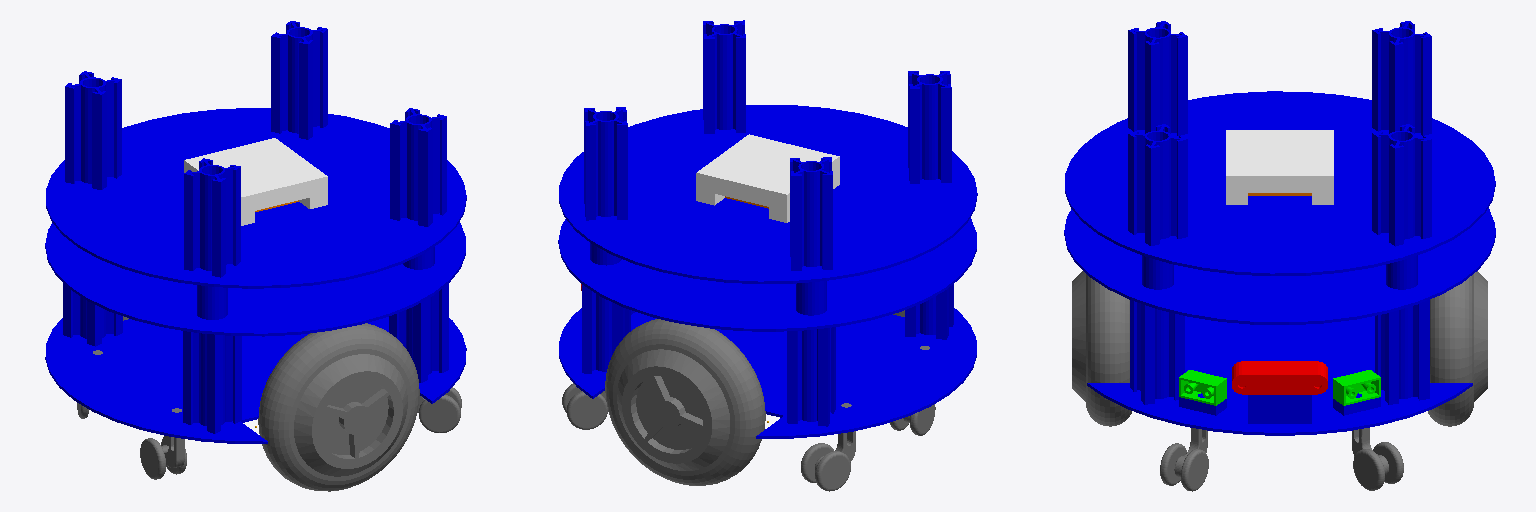
--- Facts derived from the render (not from the file) ---
3 views of the same robot in one strip: view 1: azimuth 30°, elevation 25°; view 2: azimuth 150°, elevation 25°; view 3: azimuth 270°, elevation 25° (orthographic).
Model jason_robot with 17 links and 16 joints (10 continuous, 6 fixed), rooted at base_footprint_link, posed every joint at zero.
Visible links, largest first — view 1: base_link, rightwheel_link, imu_link, caster1_link, caster4_link, casterhandle4_link; view 2: base_link, leftwheel_link, imu_link, caster3_link, caster2_link, caster4_link; view 3: base_link, imu_link, rightwheel_link, leftwheel_link, depth_camera_link, caster2_link, caster1_link, leftsonar_link, rightsonar_link, casterhandle1_link.
Link boxes in pixels (x1,y1,x2,y2): base_link: (45, 21, 466, 443); rightwheel_link: (258, 323, 419, 491); imu_link: (184, 138, 327, 225); caster1_link: (419, 387, 461, 432); caster4_link: (140, 436, 186, 479); casterhandle4_link: (161, 408, 184, 467); base_link: (558, 20, 977, 438); leftwheel_link: (605, 319, 765, 485); imu_link: (696, 134, 839, 222); caster3_link: (801, 443, 850, 491); caster2_link: (562, 383, 607, 429); caster4_link: (890, 404, 935, 435); base_link: (1064, 21, 1495, 435); imu_link: (1226, 130, 1333, 204); rightwheel_link: (1072, 271, 1131, 426); leftwheel_link: (1428, 271, 1487, 426); depth_camera_link: (1232, 361, 1327, 394); caster2_link: (1353, 442, 1403, 490); caster1_link: (1160, 443, 1208, 491); leftsonar_link: (1333, 370, 1380, 405); rightsonar_link: (1179, 370, 1226, 405); casterhandle1_link: (1174, 428, 1207, 476).
Size in the robot's own frame: 0.4 by 0.4 by 0.342 metres.
Meshes: 15 distinct files referenced, 16 mesh visuals loaded (15 binary STL).

robot.urdf — jason_robot:
<?xml version="1.0" encoding="utf-8"?>
<robot name="jason_robot">

  <!-- base_footprint:to aviod the robot model drop into groud -->
  <link name="base_footprint_link"> 
    <visual>
      <origin rpy = "0.0 0.0 0.0" xyz="0.0 0.0 0.0"/>
      <geometry>
        <sphere radius="0.001"/>
      </geometry>
    </visual>  
  </link>
  <joint name="base_footprint_joint" type="fixed">
    <parent link="base_footprint_link"/>
    <child link="base_link"/>
    <origin xyz = "0.0 0.0 0.0" rpy = "0.0 0.0 0.0"/>
  </joint>

                                        <!-- body -->
  <!-- base -->
  <link name="base_link">
    <inertial>
      <origin xyz="0.00000000 0.10108756 0.00623713" rpy="0 0 0" />
      <mass value="1.82483140" />
      <inertia ixx="0.03024727" ixy="0.00000000" ixz="0.00000000" 
               iyy="0.03975910" iyz="-0.00096624" izz="0.02932123"/>
    </inertial>
    <visual>
      <origin xyz="0 0 0" rpy="0 0 0"/>
      <geometry>
        <mesh filename="package://jason_description/meshes/base_link.STL"/>
      </geometry>
      <material name="Blue">
        <color rgba="0 0 1 1"/>
      </material>
    </visual>
    <collision>
      <origin xyz="0 0 0" rpy="0 0 0" />
      <geometry>
        <mesh filename="package://jason_description/meshes/base_link.STL"/>
      </geometry>
    </collision>
  </link>

  <!-- leftwheel -->
  <link name="leftwheel_link">
    <inertial>
      <origin xyz="0.025015 1.5613E-17 3.3827E-17" rpy="0 0 0"/>
      <mass value="0.97002"/>
      <inertia ixx="0.0031479" ixy="-2.0133E-20" ixz="-3.4297E-20" 
               iyy="0.0017677" iyz="-1.0842E-19" izz="0.0017677"/>
    </inertial>
    <visual>
      <origin xyz="0 0 0" rpy="0 0 0"/>
      <geometry>
        <mesh filename="package://jason_description/meshes/leftwheel.STL"/>
      </geometry>
      <material name="Grey">
        <color rgba="0.5 0.5 0.5 1"/>
      </material>
    </visual>
    <collision>
      <origin xyz="0 0 0" rpy="0 0 0"/>
      <geometry>
        <mesh filename="package://jason_description/meshes/leftwheel.STL"/>
      </geometry>
    </collision>
  </link>
  <joint name="leftwheel_joint" type="continuous">
    <origin xyz="0 0.135 0.085" rpy="1.9846 0 1.5708"/>
    <parent link="base_link"/>
    <child link="leftwheel_link"/>
    <axis xyz="1 0 0"/>
    <limit effort="100" velocity="100"/>
  </joint>
  <transmission name="leftwheel_joint_trans">
    <type>transmission_interface/SimpleTransmission</type>
    <joint name="leftwheel_joint">
        <hardwareInterface>hardware_interface/VelocityJointInterface</hardwareInterface>
    </joint>
    <actuator name="leftwheel_joint_motor">
        <hardwareInterface>hardware_interface/VelocityJointInterface</hardwareInterface>
        <mechanicalReduction>1</mechanicalReduction>
    </actuator>
</transmission>

  <!-- rightwheel -->
  <link name="rightwheel_link">
    <inertial>
      <origin xyz="0.0250147602908531 5.20417042793042E-18 0" rpy="0 0 0" />
      <mass value="0.970024552759726" />
      <inertia ixx="0.0031479187861595" ixy="5.18498633207202E-19" ixz="-4.35193244517078E-19" 
               iyy="0.00176772418850793" iyz="1.62630325872826E-19" izz="0.00176772418850793" />
    </inertial>
    <visual>
      <origin xyz="0 0 0" rpy="0 0 0" />
      <geometry>
        <mesh filename="package://jason_description/meshes/rightwheel.STL" />
      </geometry>
      <material name="Grey">
        <color rgba="0.5 0.5 0.5 1" />
      </material>
    </visual>
    <collision>
      <origin xyz="0 0 0" rpy="0 0 0" />
      <geometry>
        <mesh filename="package://jason_description/meshes/rightwheel.STL" />
      </geometry>
    </collision>
  </link>
  <joint name="rightwheel_joint" type="continuous">
    <origin xyz="0 -0.135 0.085" rpy="0.5198 0 -1.5708" />
    <parent link="base_link" />
    <child link="rightwheel_link" />
    <axis xyz="-1 0 0" />
    <limit effort="100" velocity="100" />
  </joint>
  <transmission name="rightwheel_joint_trans">
  <type>transmission_interface/SimpleTransmission</type>
  <joint name="rightwheel_joint">
      <hardwareInterface>hardware_interface/VelocityJointInterface</hardwareInterface>
  </joint>
  <actuator name="rightwheel_joint_motor">
      <hardwareInterface>hardware_interface/VelocityJointInterface</hardwareInterface>
      <mechanicalReduction>1</mechanicalReduction>
  </actuator>
</transmission>

  <!-- casterhandle1 -->
  <link name="casterhandle1_link">
    <inertial>
      <origin xyz="0 0.0297669849189359 -0.00695284912191863" rpy="0 0 0" />
      <mass value="0.0107364974282701" />
      <inertia ixx="5.80576146335529E-06" ixy="-2.43521972335611E-21" ixz="-1.48230765769503E-21"
               iyy="1.45396246086487E-06" iyz="-1.41313210015193E-06" izz="4.55928007631684E-06" />
    </inertial>
    <visual>
      <origin xyz="0 0 0" rpy="0 0 0" />
      <geometry>
        <mesh filename="package://jason_description/meshes/casterhandle1.STL" />
      </geometry>
      <material name="Grey">
        <color rgba="0.5 0.5 0.5 1" />
      </material>
    </visual>
    <collision>
      <origin xyz="0 0 0" rpy="0 0 0" />
      <geometry>
        <mesh filename="package://jason_description/meshes/casterhandle1.STL" />
      </geometry>
    </collision>
  </link>
  <joint name="casterhandle1_joint" type="continuous">
    <origin xyz="0.1299 -0.075 0.01" rpy="1.5708 0 -2.1443" />
    <parent link="base_link" />
    <child link="casterhandle1_link" />
    <axis xyz="0 -1 0" />
    <limit effort="100" velocity="100" />
  </joint>

  <!-- caster1 -->
  <link name="caster1_link">
    <inertial>
      <origin xyz="0 0 0" rpy="0 0 0" />
      <mass value="0.0203459824312811" />
      <inertia ixx="3.68448896895517E-06" ixy="2.38228016415272E-22" ixz="2.01170324972896E-21"
               iyy="4.49587566651826E-06" iyz="-1.05879118406788E-22" izz="4.49587566651827E-06" />
    </inertial>
    <visual>
      <origin xyz="0 0 0" rpy="0 0 0" />
      <geometry>
        <mesh filename="package://jason_description/meshes/caster1.STL" />
      </geometry>
      <material name="Grey">
        <color rgba="0.5 0.5 0.5 1" />
      </material>
    </visual>
    <collision>
      <origin xyz="0 0 0" rpy="0 0 0" />
      <geometry>
        <mesh filename="package://jason_description/meshes/caster1.STL" />
      </geometry>
    </collision>
  </link>
  <joint name="caster1_joint" type="continuous">
    <origin xyz="0 0.01 -0.025" rpy="-0.21648 0 -3.1416" />
    <parent link="casterhandle1_link" />
    <child link="caster1_link" />
    <axis xyz="1 0 0" />
    <limit effort="100" velocity="100" />
  </joint>

  <!-- casterhandle2 -->
  <link name="casterhandle2_link">
    <inertial>
      <origin xyz="2.08166817117217E-17 0.0297669849189359 -0.00695284912191868" rpy="0 0 0" />
      <mass value="0.0107364974282701" />
      <inertia ixx="5.80576146335528E-06" ixy="-5.29395592033938E-22" ixz="-1.27054942088145E-21"
               iyy="1.45396246086487E-06" iyz="-1.41313210015192E-06" izz="4.55928007631684E-06" />
    </inertial>
    <visual>
      <origin xyz="0 0 0" rpy="0 0 0" />
      <geometry>
        <mesh filename="package://jason_description/meshes/casterhandle2.STL" />
      </geometry>
      <material name="Grey">
        <color rgba="0.5 0.5 0.5 1" />
      </material>
    </visual>
    <collision>
      <origin xyz="0 0 0" rpy="0 0 0" />
      <geometry>
        <mesh filename="package://jason_description/meshes/casterhandle2.STL" />
      </geometry>
    </collision>
  </link>
  <joint name="casterhandle2_joint" type="continuous">
    <origin xyz="0.1299 0.075 0.01" rpy="1.5708 0 -0.85675" />
    <parent link="base_link" />
    <child link="casterhandle2_link" />
    <axis xyz="0 -1 0" />
    <limit effort="100" velocity="100" />
  </joint>

  <!-- caster2 -->
  <link name="caster2_link">
    <inertial>
      <origin xyz="5.55111512312578E-17 0 0" rpy="0 0 0" />
      <mass value="0.0203459824312811" />
      <inertia ixx="3.68448896895516E-06" ixy="-1.05879118406788E-22" ixz="-2.64697796016969E-23" 
               iyy="4.49587566651826E-06" iyz="-1.58818677610181E-22" izz="4.49587566651826E-06" />
    </inertial>
    <visual>
      <origin xyz="0 0 0" rpy="0 0 0" />
      <geometry>
        <mesh filename="package://jason_description/meshes/caster2.STL" />
      </geometry>
      <material name="Grey">
        <color rgba="0.5 0.5 0.5 1" />
      </material>
    </visual>
    <collision>
      <origin xyz="0 0 0" rpy="0 0 0" />
      <geometry>
        <mesh filename="package://jason_description/meshes/caster2.STL" />
      </geometry>
    </collision>
  </link>
  <joint name="caster2_joint" type="continuous">
    <origin xyz="0 0.01 -0.025" rpy="-1.4513 0 0" />
    <parent link="casterhandle2_link" />
    <child link="caster2_link" />
    <axis xyz="1 0 0" />
    <limit effort="100" velocity="100" />
  </joint>

  <!-- casterhandle3 -->
  <link name="casterhandle3_link">
    <inertial>
      <origin xyz="0 0.0297669849189359 -0.00695284912191872" rpy="0 0 0" />
      <mass value="0.0107364974282701" />
      <inertia ixx="5.80576146335528E-06" ixy="-3.17637355220363E-22" ixz="-3.17637355220363E-22"
               iyy="1.45396246086487E-06" iyz="-1.41313210015192E-06" izz="4.55928007631684E-06" />
    </inertial>
    <visual>
      <origin xyz="0 0 0" rpy="0 0 0" />
      <geometry>
        <mesh filename="package://jason_description/meshes/casterhandle3.STL" />
      </geometry>
      <material name="Grey">
        <color rgba="0.5 0.5 0.5 1" />
      </material>
    </visual>
    <collision>
      <origin xyz="0 0 0" rpy="0 0 0" />
      <geometry>
        <mesh filename="package://jason_description/meshes/casterhandle3.STL" />
      </geometry>
    </collision>
  </link>
  <joint name="casterhandle3_joint" type="continuous">
    <origin xyz="-0.1299 0.075 0.01" rpy="1.5708 0 -0.39591" />
    <parent link="base_link" />
    <child link="casterhandle3_link" />
    <axis xyz="0 -1 0" />
    <limit effort="100" velocity="100" />
  </joint>

  <!-- caster3 -->
  <link name="caster3_link">
    <inertial>
      <origin xyz="1.38777878078145E-16 0 -6.93889390390723E-18" rpy="0 0 0" />
      <mass value="0.0203459824312811" />
      <inertia ixx="3.68448896895516E-06" ixy="-1.58818677610181E-22" ixz="1.27054942088145E-21"
               iyy="4.49587566651827E-06" iyz="-1.32348898008484E-22" izz="4.49587566651827E-06" />
    </inertial>
    <visual>
      <origin xyz="0 0 0" rpy="0 0 0" />
      <geometry>
        <mesh filename="package://jason_description/meshes/caster3.STL" />
      </geometry>
      <material name="Grey">
        <color rgba="0.5 0.5 0.5 1" />
      </material>
    </visual>
    <collision>
      <origin xyz="0 0 0" rpy="0 0 0" />
      <geometry>
        <mesh filename="package://jason_description/meshes/caster3.STL" />
      </geometry>
    </collision>
  </link>
  <joint name="caster3_joint" type="continuous">
    <origin xyz="0 0.01 -0.025" rpy="0.53778 0 0" />
    <parent link="casterhandle3_link" />
    <child link="caster3_link" />
    <axis xyz="1 0 0" />
    <limit effort="100" velocity="100" />
  </joint>

  <!-- casterhandle4 -->
  <link name="casterhandle4_link">
    <inertial>
      <origin xyz="2.77555756156289E-17 0.0297669849189359 -0.00695284912191868" rpy="0 0 0" />
      <mass value="0.0107364974282701" />
      <inertia ixx="5.80576146335528E-06" ixy="6.37425380033363E-21" ixz="5.84982129197501E-21"
               iyy="1.45396246086487E-06" iyz="-1.41313210015192E-06" izz="4.55928007631684E-06" />
    </inertial>
    <visual>
      <origin xyz="0 0 0" rpy="0 0 0" />
      <geometry>
        <mesh filename="package://jason_description/meshes/casterhandle4.STL" />
      </geometry>
      <material name="Grey">
        <color rgba="0.5 0.5 0.5 1" />
      </material>
    </visual>
    <collision>
      <origin xyz="0 0 0" rpy="0 0 0" />
      <geometry>
        <mesh filename="package://jason_description/meshes/casterhandle4.STL" />
      </geometry>
    </collision>
  </link>
  <joint name="casterhandle4_joint" type="continuous">
    <origin xyz="-0.1299 -0.075 0.01" rpy="1.5708 0 0.0055428" />
    <parent link="base_link" />
    <child link="casterhandle4_link" />
    <axis xyz="0 -1 0" />
    <limit effort="100" velocity="100" />
  </joint>

  <!-- caster4 -->
  <link name="caster4_link">
    <inertial>
      <origin xyz="5.55111512312578E-17 6.93889390390723E-18 -1.38777878078145E-17" rpy="0 0 0" />
      <mass value="0.020345982431281" />
      <inertia ixx="3.68448896895516E-06" ixy="-1.61920604907255E-21" ixz="-3.8513529320469E-21"
               iyy="4.49587566651826E-06" iyz="-1.83874818469722E-22" izz="4.49587566651826E-06" />
    </inertial>
    <visual>
      <origin xyz="0 0 0" rpy="0 0 0" />
      <geometry>
        <mesh filename="package://jason_description/meshes/caster4.STL" />
      </geometry>
      <material name="Grey">
        <color rgba="0.5 0.5 0.5 1" />
      </material>
    </visual>
    <collision>
      <origin xyz="0 0 0" rpy="0 0 0" />
      <geometry>
        <mesh filename="package://jason_description/meshes/caster4.STL" />
      </geometry>
    </collision>
  </link>
  <joint name="caster4_joint" type="continuous">
    <origin xyz="0 0.01 -0.025" rpy="0.20426 0 0" />
    <parent link="casterhandle4_link" />
    <child link="caster4_link" />
    <axis xyz="1 0 0" />
    <limit effort="100" velocity="100" />
  </joint>

  <!-- imu -->
  <link name="imu_link">
    <inertial>
      <origin xyz="0 0 0" rpy="0 0 0" />
      <mass value="0" />
      <inertia ixx="0" ixy="0" ixz="0"
               iyy="0" iyz="0" izz="0" />
    </inertial>
    <visual>
      <origin xyz="0 0 0" rpy="0 0 0" />
      <geometry>
        <mesh filename="package://jason_description/meshes/imu.STL" />
      </geometry>
      <material name="White">
        <color rgba="1 1 1 1" />
      </material>
    </visual>
    <collision>
      <origin xyz="0 0 0" rpy="0 0 0" />
      <geometry>
        <mesh filename="package://jason_description/meshes/imu.STL" />
      </geometry>
    </collision>
  </link>
  <joint name="imu_joint" type="fixed">
    <origin xyz="0 0 0.241" rpy="0 0 1.5708" />
    <parent link="base_link" />
    <child link="imu_link" />
    <axis xyz="0 0 0" />
  </joint>  

                                        <!-- sensors -->
  <!-- lidar -->
  <link name="lidar_link">
    <inertial>
      <origin xyz="4.09310872603549E-16 3.99729920717014E-16 0.0153948317043902" rpy="0 0 0" />
      <mass value="0.0840106255359657" />
      <inertia ixx="2.77081844063037E-05" ixy="1.41172157875717E-21" ixz="2.29728265499214E-22" 
               iyy="2.77081844063037E-05" iyz="3.63907857867545E-22" izz="3.448474197593E-05" />
    </inertial>
    <visual>
      <origin xyz="0 0 0" rpy="3.14159 0 0" />
      <geometry>
        <mesh filename="package://jason_description/meshes/lidar.STL" />
      </geometry>
      <material name="Orange">
        <color rgba="1.0 0.5 0 1" />
      </material>
    </visual>
    <collision>
      <origin xyz="0 0 0" rpy="0 0 0" />
      <geometry>
        <mesh filename="package://jason_description/meshes/lidar.STL" />
      </geometry>
    </collision>
  </link>
  <joint name="lidar_joint" type="fixed">
    <origin xyz="0 0 0.248" rpy="0  0  0" />
    <parent link="base_link" />
    <child link="lidar_link" />
    <axis xyz="0 0 0" />
  </joint>

                                          <!-- camera -->
  <!-- camera -->
  <link name="depth_camera_link">
    <inertial>
      <origin xyz="0.00885919804493583 0.011427228102544 0.0149191163471901" rpy="0 0 0" />
      <mass value="0.0503377869026273" />
      <inertia ixx="5.40435557385604E-06" ixy="-2.01817407752424E-21" ixz="2.43872238839389E-22"
               iyy="3.51518348354752E-05" iyz="-3.17629361829215E-10" izz="3.29633328279795E-05" />
    </inertial>
    <visual>
      <origin xyz="0 0 0" rpy="1.5708 0 1.5708" />
      <geometry>
        <mesh filename="package://jason_description/meshes/depth_camera.STL" />
      </geometry>
      <material name="Red">
        <color rgba="1 0 0 1" />
      </material>
    </visual>
    <collision>
      <origin xyz="0 0 0" rpy="0 0 0" />
      <geometry>
        <mesh filename="package://jason_description/meshes/depth_camera.STL" />
      </geometry>
    </collision>
  </link>
  <joint name="depth_camera_joint" type="fixed">
    <origin xyz="0.15 -0.0088592 0.10665" rpy="0 0 0" />
    <parent link="base_link" />
    <child link="depth_camera_link" />
    <axis xyz="0 0 0" />
  </joint>

                                        <!-- sonars -->
  <!-- leftsonar -->
  <link name="leftsonar_link">
    <inertial>
      <origin xyz="0.00792027808007231 0.000168686050255766 -3.40353925598613E-11" rpy="0 0 0" />
      <mass value="0.00838075367254196" />
      <inertia ixx="1.66380504569355E-06" ixy="-2.94013297145479E-09" ixz="2.87516389806945E-15"
               iyy="1.63719750563248E-06" iyz="-9.53790082675265E-13" izz="6.5615682924952E-07" />
    </inertial>
    <visual>
      <origin xyz="0 0 0" rpy="0 0 0" />
      <geometry>
        <mesh filename="package://jason_description/meshes/sonar.STL" />
      </geometry>
      <material name="Green">
        <color rgba="0 1 0 1" />
      </material>
    </visual>
    <collision>
      <origin xyz="0 0 0" rpy="0 0 0" />
      <geometry>
        <mesh filename="package://jason_description/meshes/sonar.STL" />
      </geometry>
    </collision>
  </link>
  <joint
    name="leftsonar_joint"
    type="fixed">
    <origin xyz="0.1349 0.06634 0.098" rpy="1.5708 0 0.5236" />
    <parent link="base_link" />
    <child link="leftsonar_link" />
    <axis xyz="0 0 0" />
  </joint>

  <!-- right_sonar -->
  <link name="rightsonar_link">
    <inertial>
      <origin xyz="0.00792027808007228 0.000168686050255773 -3.40354064376491E-11" rpy="0 0 0" />
      <mass value="0.00838075367254196" />
      <inertia ixx="1.66380504569355E-06" ixy="-2.94013297145484E-09" ixz="2.87516246870135E-15"
               iyy="1.63719750563248E-06" iyz="-9.53790082856004E-13" izz="6.5615682924952E-07" />
    </inertial>
    <visual>
      <origin xyz="0 0 0" rpy="0 0 0" />
      <geometry>
        <mesh filename="package://jason_description/meshes/sonar.STL" />
      </geometry>
      <material name="Green">
        <color rgba="0 1 0 1" />
      </material>
    </visual>
    <collision>
      <origin xyz="0 0 0" rpy="0 0 0" />
      <geometry>
        <mesh filename="package://jason_description/meshes/sonar.STL" />
      </geometry>
    </collision>
  </link>
  <joint name="rightsonar_joint" type="fixed">
    <origin xyz="0.1349 -0.06634 0.098" rpy="1.5708 0 -0.5236" />
    <parent link="base_link" />
    <child link="rightsonar_link" />
    <axis xyz="0 0 0" />
  </joint>

                                        <!-- gazebo plugin for WHEELS -->
  <gazebo>
    <plugin name="differential_drive_controller" filename="libgazebo_ros_diff_drive.so">
      <updateRate>10</updateRate>
      <leftJoint>leftwheel_joint</leftJoint>
      <rightJoint>rightwheel_joint</rightJoint>
      <!-- The distance from the center of one wheel to the other, in meters, defaults to 0.34 m -->
      <wheelSeparation>0.315</wheelSeparation>
      <wheelDiameter>0.17</wheelDiameter>
      <!-- Wheel acceleration, in rad/s^2, defaults to 0.0 rad/s^2 -->
      <wheelAcceleration>2.0</wheelAcceleration>
      <!-- Maximum torque which the wheels can produce, in Nm, defaults to 5 Nm -->
      <wheelTorque>40</wheelTorque>
      <commandTopic>cmd_vel</commandTopic>
      <odometryTopic>odom</odometryTopic>
      <odometryFrame>odom</odometryFrame>
      <robotBaseFrame>base_footprint_link</robotBaseFrame>
      <!-- Odometry source, 0 for ENCODER, 1 for WORLD, defaults to WORLD -->
      <odometrySource>1</odometrySource>
      <publishWheelTF>true</publishWheelTF>
      <publishOdom>true</publishOdom>
      <publishWheelJointState>true</publishWheelJointState>
      <!-- Set to true to swap right and left wheels, defaults to true -->
      <legacyMode>false</legacyMode>
    </plugin>
  </gazebo>

                                        <!-- gazebo plugin for LIDAR -->
  <gazebo reference="lidar_link">
    <sensor type="ray" name="head_hokuyo_sensor">
      <pose>0 0 -0.03 0 0 0</pose>
      <visualize>true</visualize>
      <update_rate>15</update_rate> 
      <ray>
        <scan>
          <horizontal>
            <!-- 水平角分辨率LDS-E300-E: 0.5°@25HZ -->
            <samples>720</samples>
            <resolution>1</resolution>
            <min_angle>-3.1415926535</min_angle>
            <!-- <min_angle>-1.570796</min_angle> -->
            <max_angle>3.1415926535</max_angle>
            <!-- <max_angle>1.570796</max_angle> -->
          </horizontal>
        </scan>
        <range>
          <!-- 0.1-25m（90%） -->
          <min>0.21</min>
          <max>25.0</max>
          <!-- 距离分辨率mm级 -->
          <resolution>0.01</resolution>
        </range>
        <noise>
          <type>gaussian</type>
          <!-- Noise parameters based on published spec for Hokuyo laser
                achieving "+-30mm" accuracy at range < 10m.  A mean of 0.0m and
                stddev of 0.01m will put 99.7% of samples within 0.03m of the true
                reading. -->
          <mean>0.0</mean>
          <stddev>0.01</stddev>
        </noise>
      </ray>
      <!-- GPU Laser -->
      <!-- <plugin name="gazebo_ros_head_hokuyo_controller" filename="libgazebo_ros_gpu_laser.so"> -->
        <plugin name="gazebo_ros_head_hokuyo_controller" filename="libgazebo_ros_laser.so">
        <topicName>/scan</topicName>
        <frameName>lidar_link</frameName>
      </plugin>
    </sensor>
  </gazebo>                                        

                                        <!-- gazebo plugin for DEPTH_CAMERA -->
 <gazebo reference="depth_camera_link">
  <sensor type="depth" name="camera">
    <always_on>true</always_on>
    <update_rate>90.0</update_rate>  <!-- 根据深度分辨率的帧率 -->
    <camera>
      <!-- 深度相机参数 -->
      <horizontal_fov>1.50098</horizontal_fov>  <!-- 86° -> 1.50098 弧度 -->
      <image>
        <format>B8G8R8</format>
        <width>1280</width>
        <height>720</height>
      </image>
      <clip>
        <near>0.3</near>  <!-- 根据理想范围参数 -->
        <far>3.0</far>    <!-- 根据理想范围参数 -->
      </clip>
    </camera>
    <plugin name="camera_plugin" filename="libgazebo_ros_openni_kinect.so">
      <baseline>0.025</baseline>  <!-- 根据相机尺寸估算 -->
      <alwaysOn>true</alwaysOn>
      <updateRate>0.0</updateRate> <!-- 保持为0，使用父级<sensor>标签中的update_rate来控制帧率 -->
      <cameraName>camera_ir</cameraName>
      <imageTopicName>/camera/color/image_raw</imageTopicName>
      <cameraInfoTopicName>/camera/color/camera_info</cameraInfoTopicName>
      <depthImageTopicName>/camera/depth/image_raw</depthImageTopicName>
      <depthImageCameraInfoTopicName>/camera/depth/camera_info</depthImageCameraInfoTopicName>
      <pointCloudTopicName>/camera/depth/points</pointCloudTopicName>
      <frameName>depth_camera_link</frameName>
      <pointCloudCutoff>0.3</pointCloudCutoff>  <!-- 根据理想范围参数 -->
      <pointCloudCutoffMax>3.0</pointCloudCutoffMax>  <!-- 根据理想范围参数 -->
      <distortionK1>0</distortionK1>
      <distortionK2>0</distortionK2>
      <distortionK3>0</distortionK3>
      <distortionT1>0</distortionT1>
      <distortionT2>0</distortionT2>
      <CxPrime>0</CxPrime>
      <Cx>0</Cx>
      <Cy>0</Cy>
      <focalLength>0</focalLength>
      <hackBaseline>0</hackBaseline>
    </plugin>
  </sensor>
</gazebo>

                                        <!-- gazebo plugin for IMU__LINK -->
<gazebo reference="imu_link">
  <gravity>true</gravity>
  <sensor name="imu_sensor" type="imu">
    <always_on>true</always_on>
    <update_rate>100</update_rate>
    <visualize>true</visualize>
    <topic>__default_topic__</topic>
    <plugin filename="libgazebo_ros_imu_sensor.so" name="imu_plugin">
      <topicName>imu/data</topicName>
      <bodyName>body_link</bodyName>
      <updateRateHZ>100.0</updateRateHZ>
      <gaussianNoise>0.0</gaussianNoise>
      <xyzOffset>0 0 0</xyzOffset>
      <rpyOffset>0 0 0</rpyOffset>
      <frameName>imu_link</frameName>
    </plugin>
    <pose>0 0 0 0 0 0</pose>
  </sensor>
</gazebo>

  </robot>
